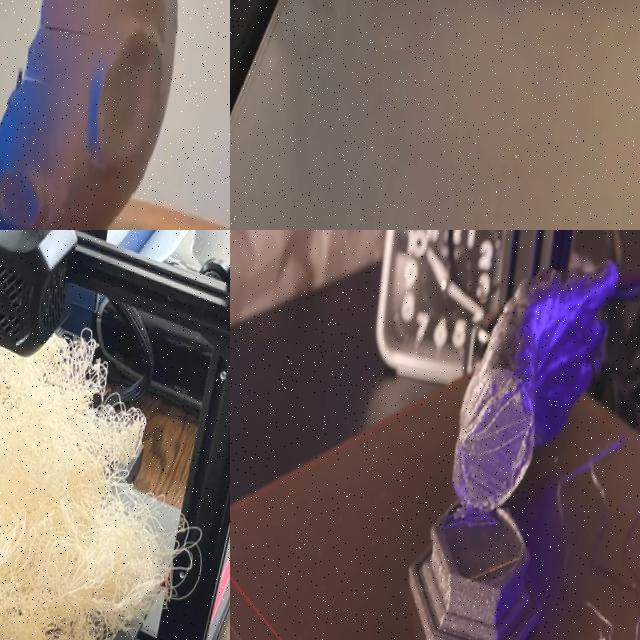spaghetti: (0, 333, 181, 640), (560, 398, 640, 640)
